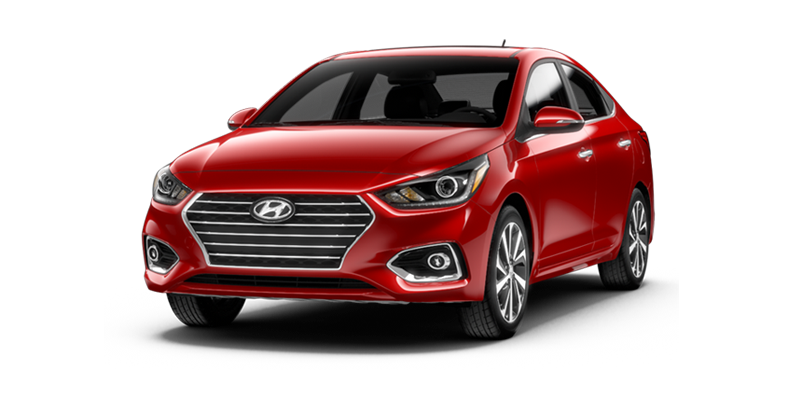P1_: (327, 242, 350, 255)
bbox: (216, 238, 327, 273)
